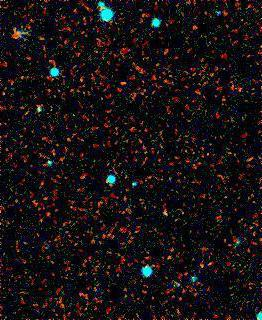star: (151, 198, 181, 228)
